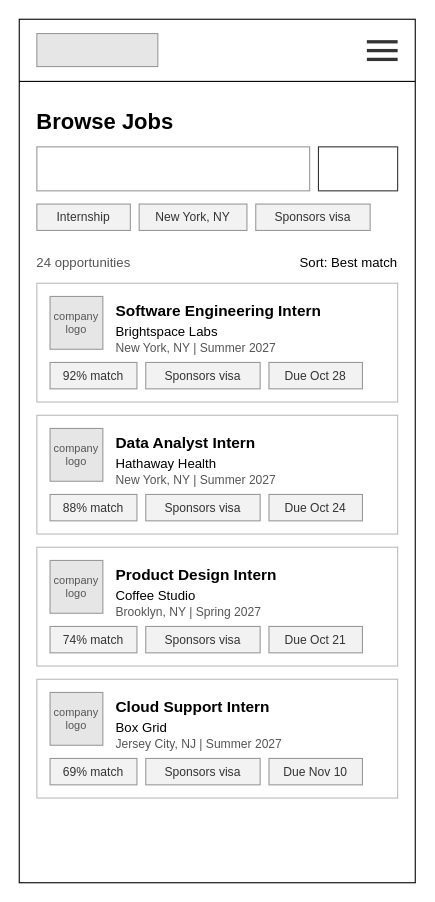
This 435x902 diagram has some shape labels left out. Here are the shapes that lost their labels. From the top down, the centre of each, then its label:
At pixel 97 49: "logo".
At pixel 173 168: "Search title, company, or skill".
At pixel 357 168: "Filters".
